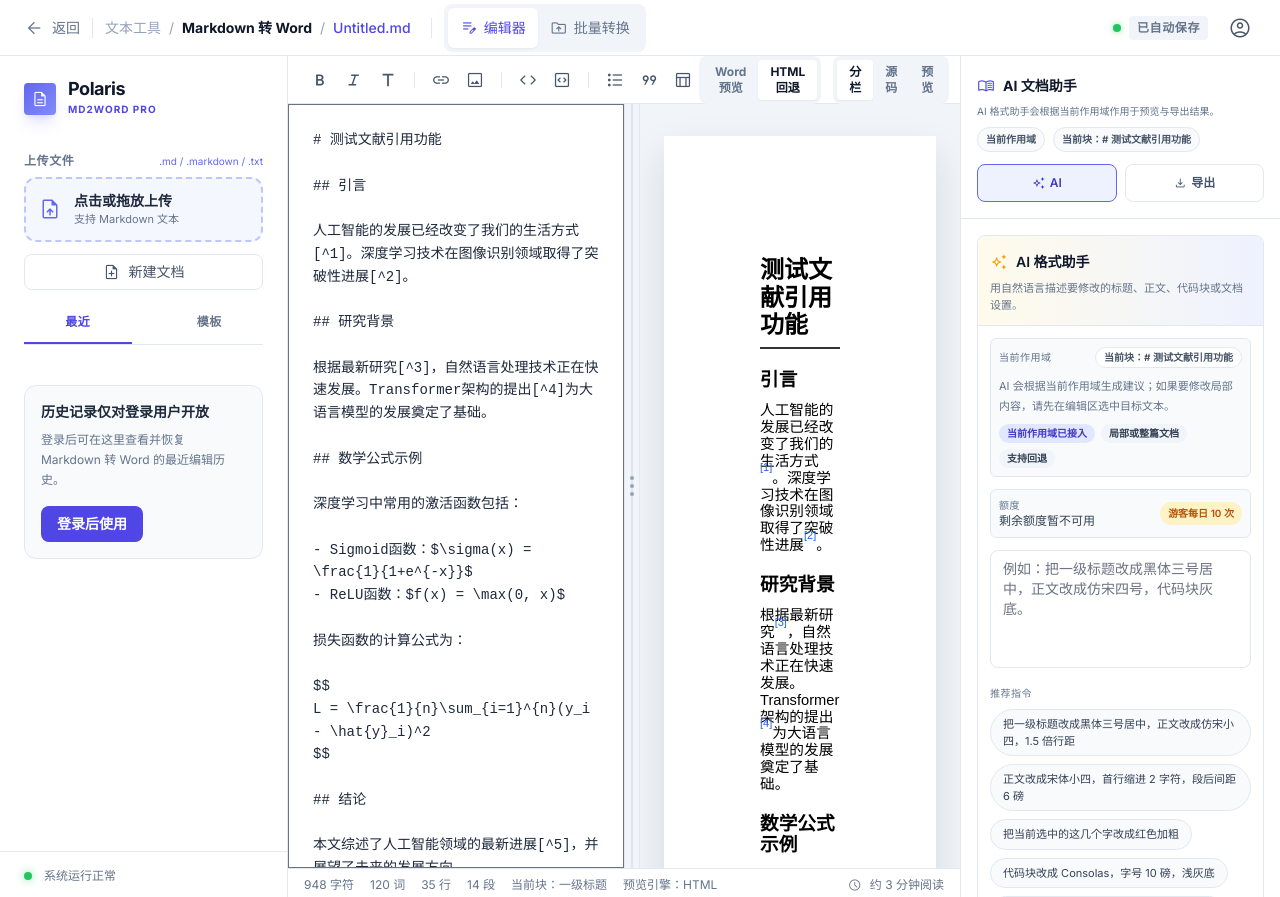
md2word AI 格式助手 › 右侧栏应提供 AI、导出两标签，并保留导出设置入口
expect the button "AI" is shown: met, box [977, 164, 1116, 202]
Click the button "导出": x=1194, y=183 [1124, 164, 1264, 202]
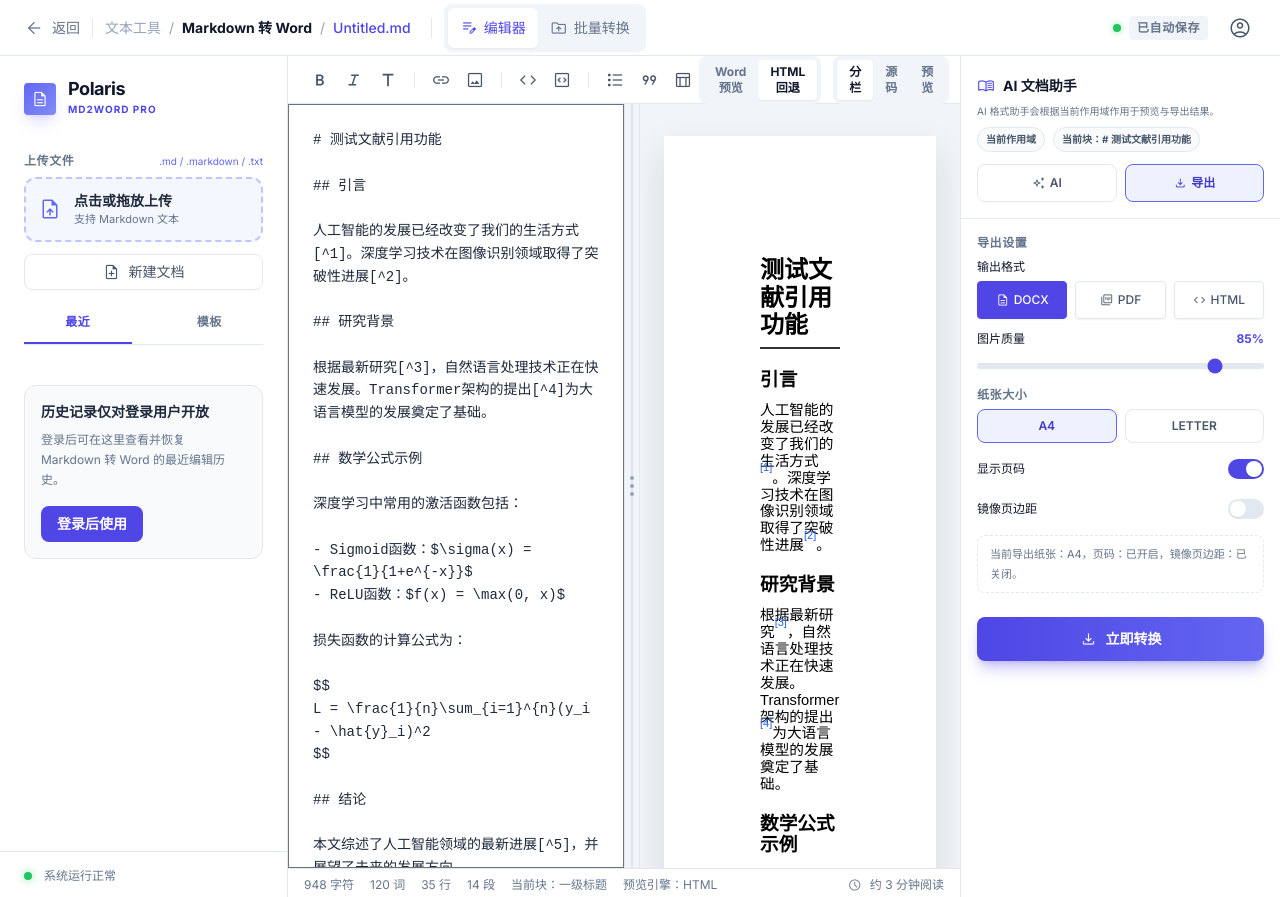
expect the button "立即转换" is shown: met, box [977, 617, 1264, 661]
expect the button "A4" is shown: met, box [977, 409, 1116, 443]
expect the switch named "显示页码" is shown: met, box [1228, 459, 1264, 479]
